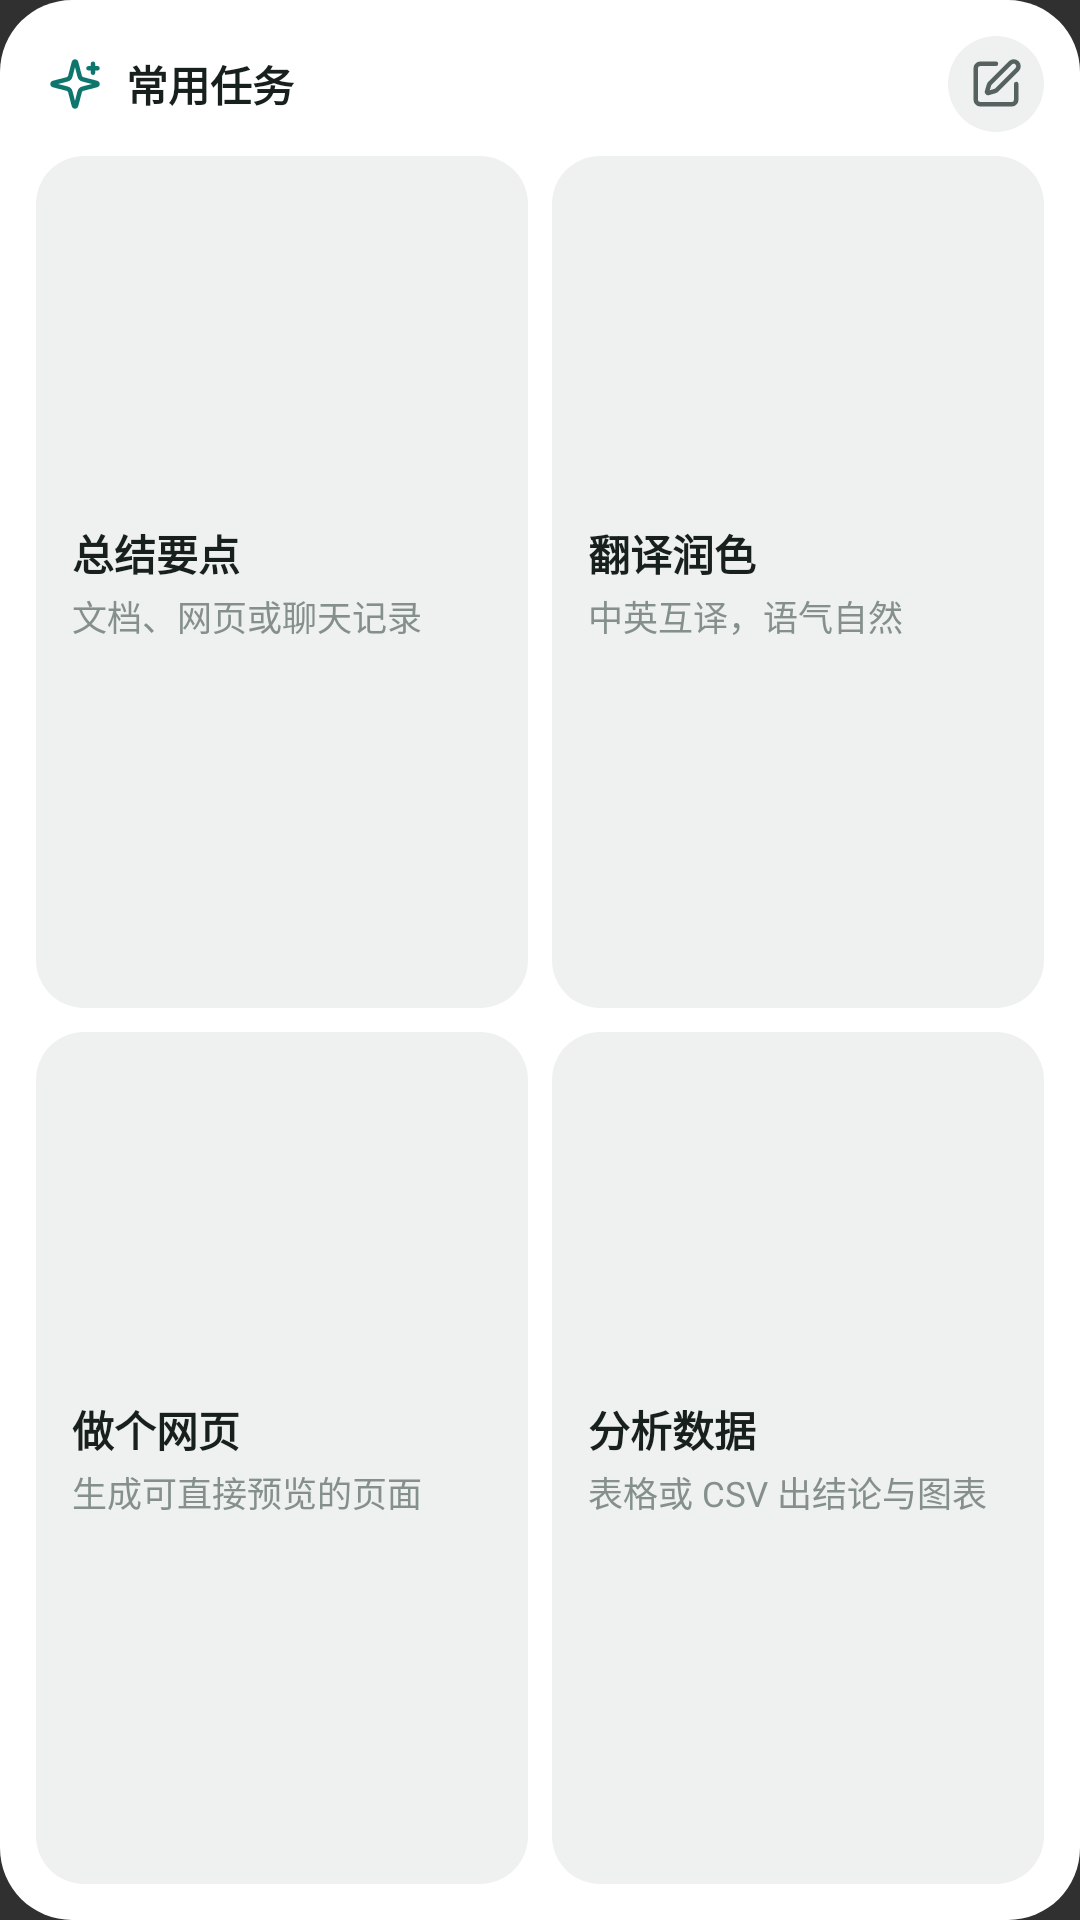

Named icons in this screenshot (1080*1920) and their bounding boxes, (x1, y1, x2, y2):
widget sparkle: (50, 59, 100, 109)
